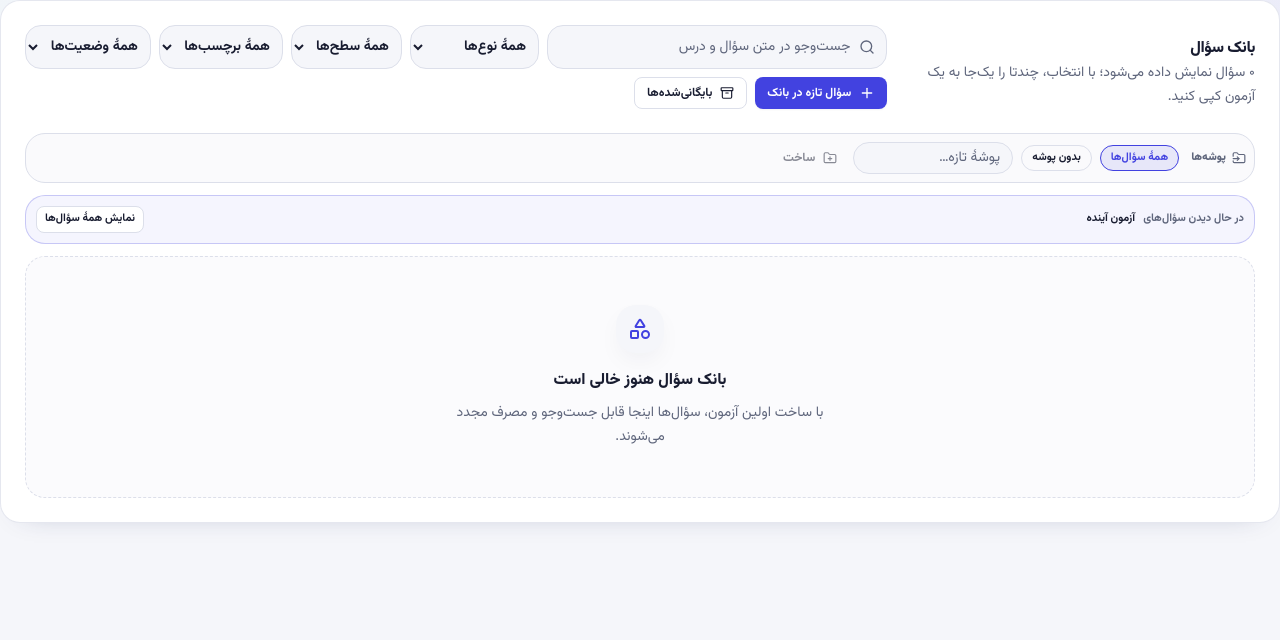
Test case: a bank opened from an exam › stays pointed at the exam the teacher came from
Expected: the button "نمایش همهٔ سؤال‌ها" is shown, [36,206,144,232]
# The composer's destination is already that exam, so nothing has to be picked twice.
What coordinates should you click on to do the following:
click the button "سؤال تازه در بانک"
I would click on:
 (821, 93)
Its box is [755,77,887,109].
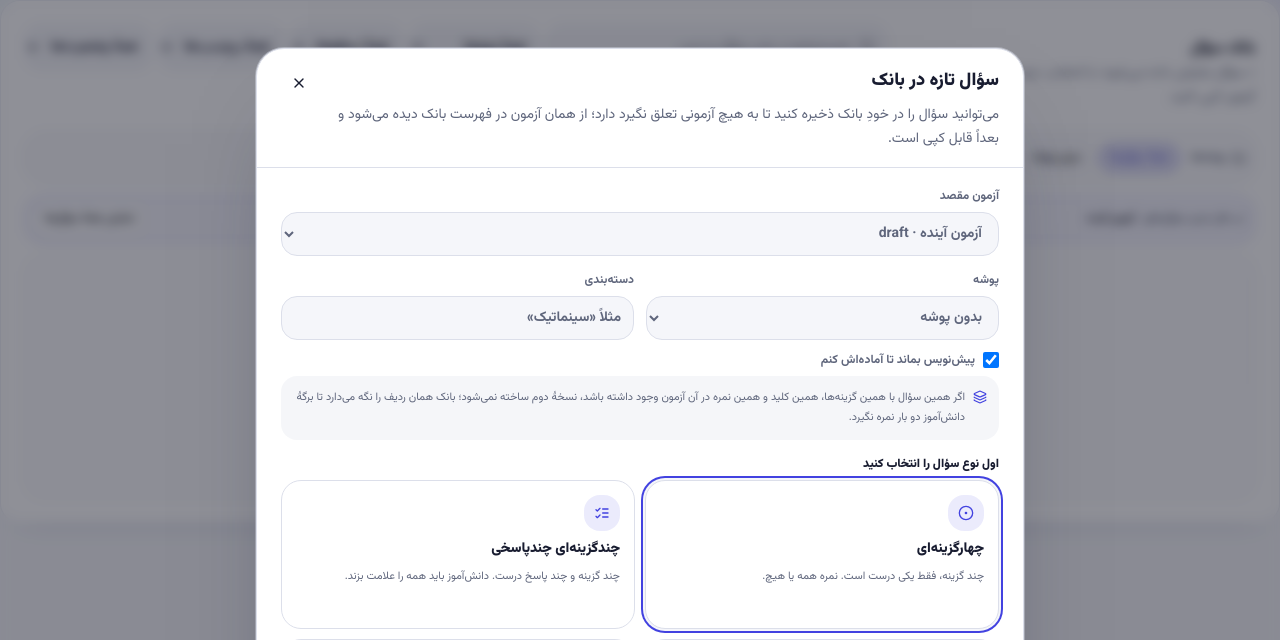
Expected: the dropdown labelled "آزمون مقصد" shows "آزمون آینده · draft", [281,212,999,256]
